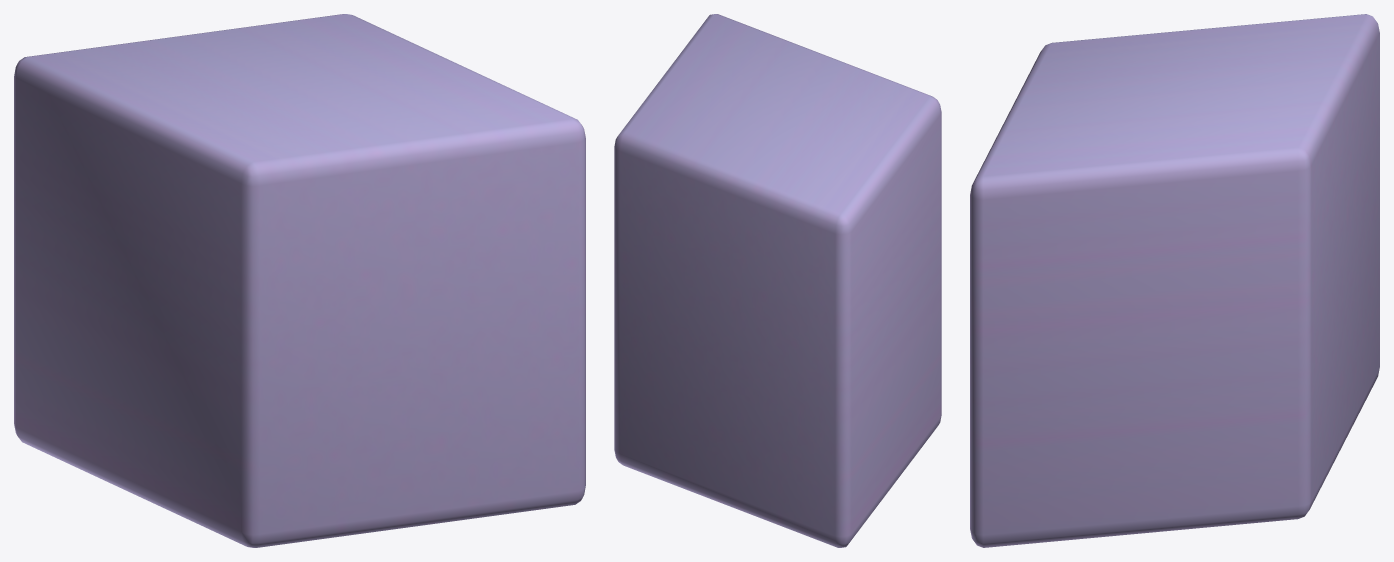
Rendered from RhombusBig_2.fbx.
The picture shows the model from 3 angles, left to right: view 1: azimuth 30°, elevation 25°; view 2: azimuth 150°, elevation 25°; view 3: azimuth 270°, elevation 25°; orthographic projection. The views are drawn at different scales.
Parts seen in each view (by area): view 1: Cube.011; view 2: Cube.011; view 3: Cube.011.
Part boxes in pixels (bbox=[...]): Cube.011: bbox=[14, 14, 585, 547]; Cube.011: bbox=[614, 14, 941, 547]; Cube.011: bbox=[970, 14, 1379, 547].
Bounding box in the file's own units: 400 × 400 × 400.
